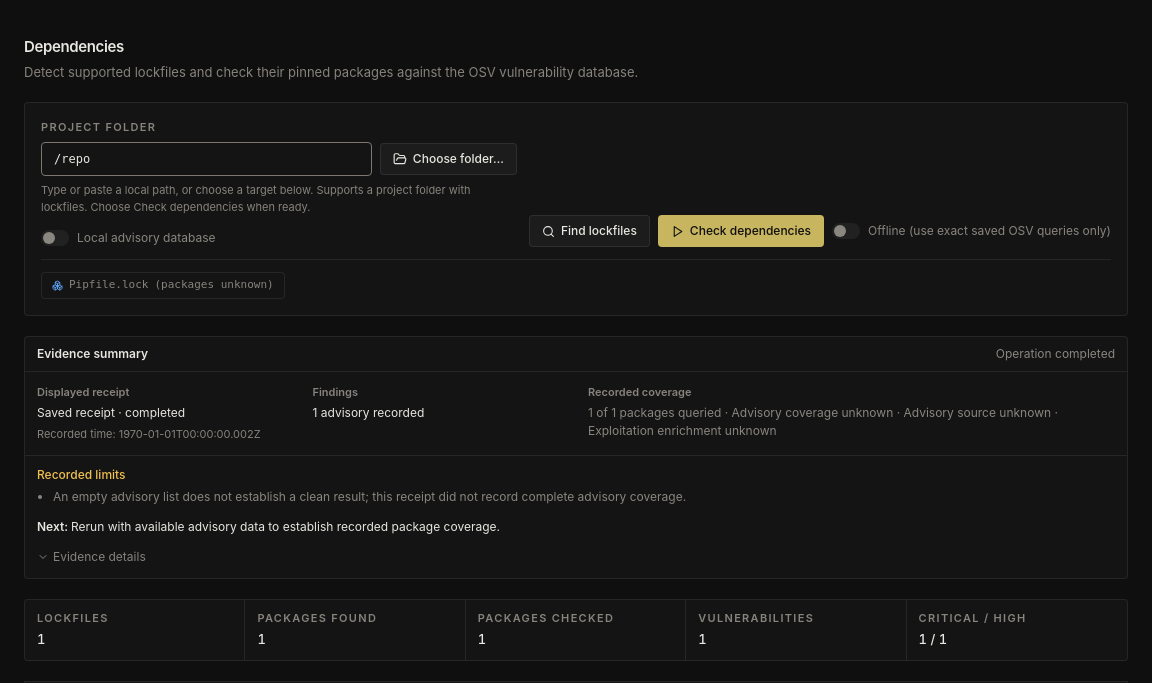
Test: cancelling a dependency check is neutral, preserves the restored evidence and never offers a retry
The width and height of the screenshot is (1152, 683).
What coordinates should you click on to do the following:
click the button "Check dependencies"
I would click on:
 (741, 231)
Its box is x1=658 y1=215 x2=824 y2=247.
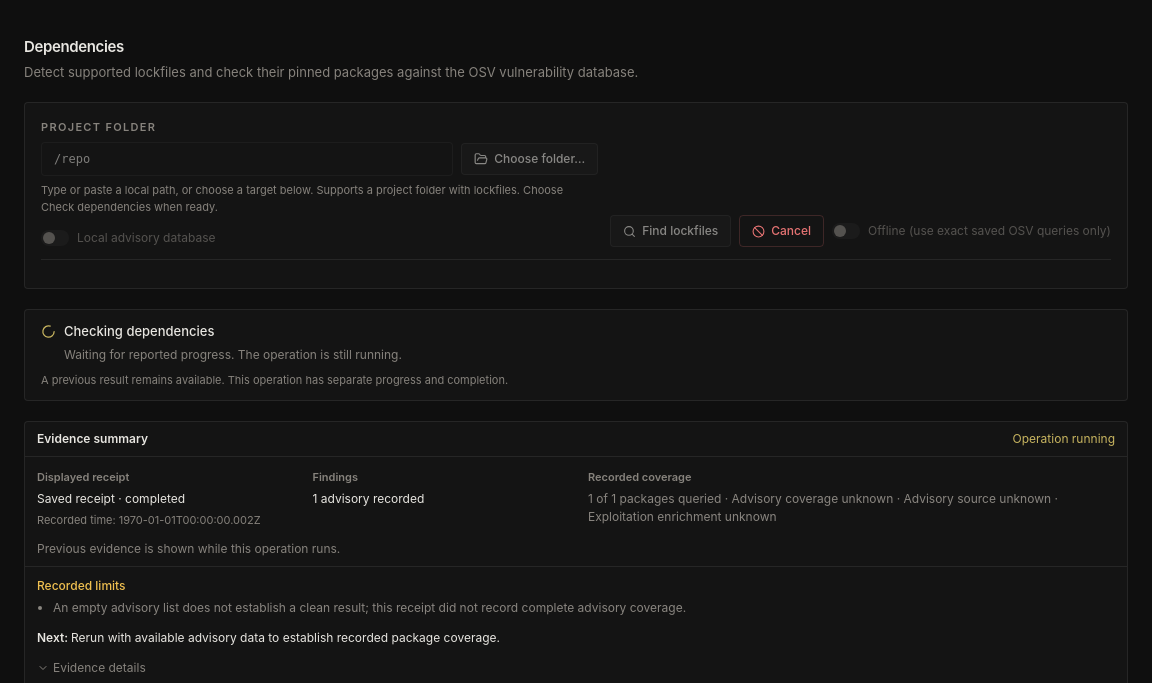
What coordinates should you click on to do the following:
click the button "Cancel"
I would click on:
 (782, 231)
Its box is x1=739 y1=215 x2=824 y2=247.
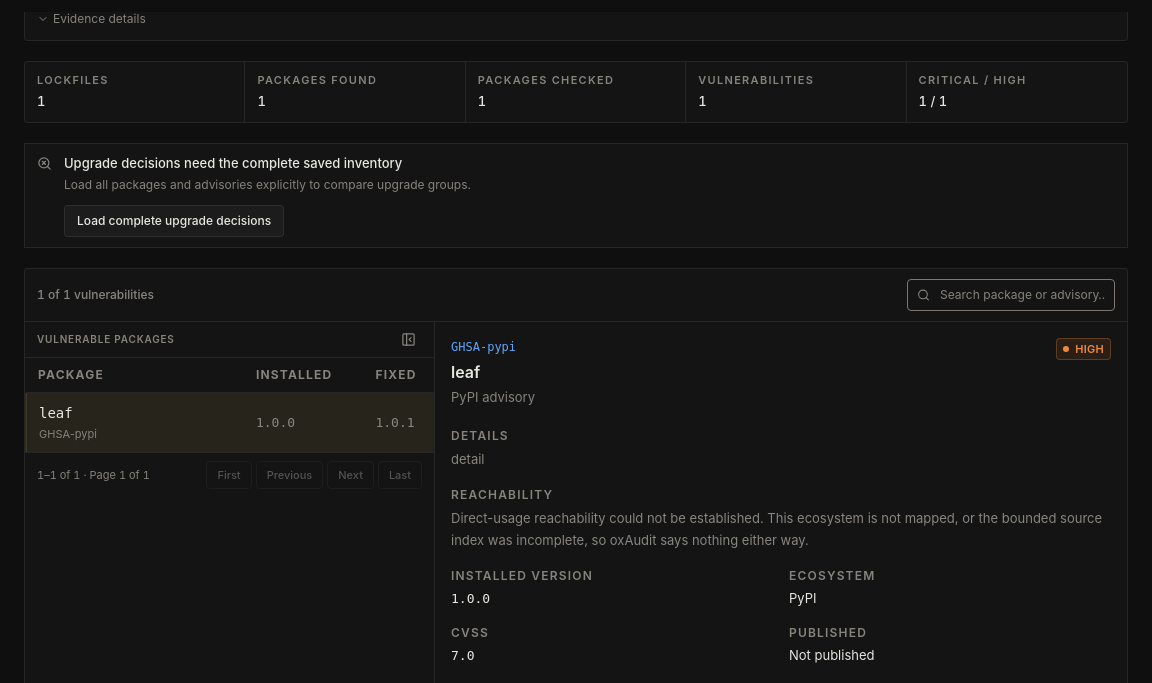
Check: the heading "leaf" is shown, box x1=451 y1=362 x2=480 y2=382
